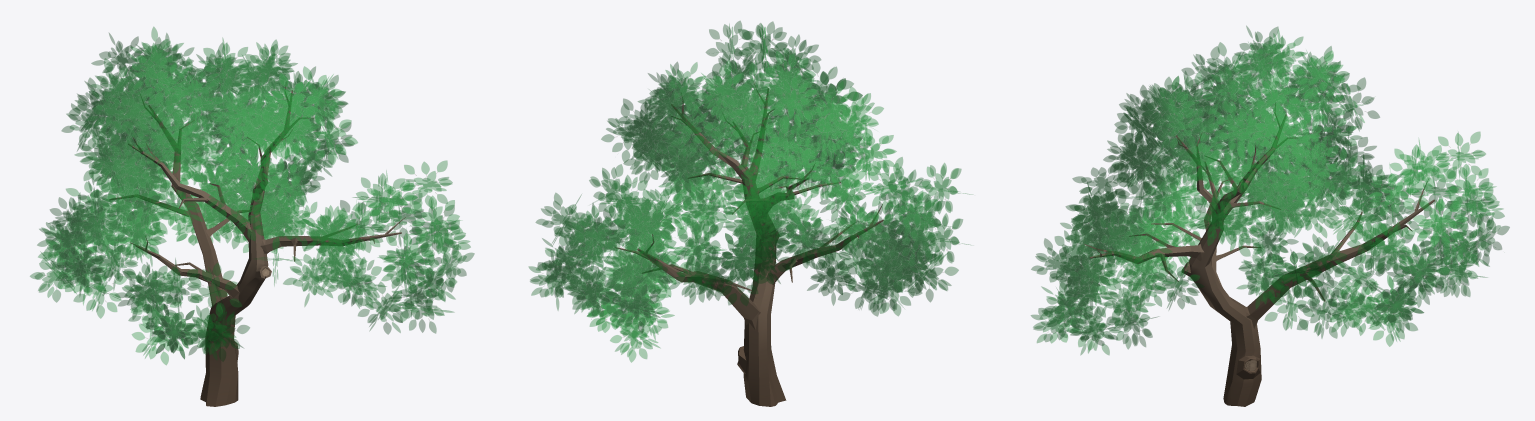
File: PT_Fruit_Tree_01_green_cut.glb
The picture shows the model from 3 angles, left to right: view 1: azimuth 30°, elevation 25°; view 2: azimuth 150°, elevation 25°; view 3: azimuth 270°, elevation 25°; orthographic projection.
Parts seen in each view (by area): view 1: PT_Fruit_Tree_01_green_cut; view 2: PT_Fruit_Tree_01_green_cut; view 3: PT_Fruit_Tree_01_green_cut.
Part boxes in pixels (bbox=[...]): PT_Fruit_Tree_01_green_cut: bbox=[30, 27, 474, 406]; PT_Fruit_Tree_01_green_cut: bbox=[529, 21, 971, 406]; PT_Fruit_Tree_01_green_cut: bbox=[1031, 26, 1509, 406].
Bounding box in the file's own units: 6.5 × 5.66 × 7.25.
2 materials, 2 textured.
